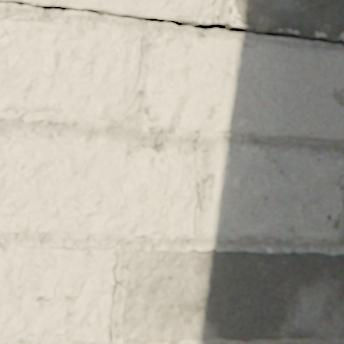brick: (122, 248, 343, 341), (146, 37, 343, 138), (0, 135, 197, 235), (0, 19, 144, 120), (207, 149, 341, 238), (0, 245, 118, 342), (233, 0, 343, 40), (12, 0, 216, 19)
crack: (0, 0, 343, 46)
